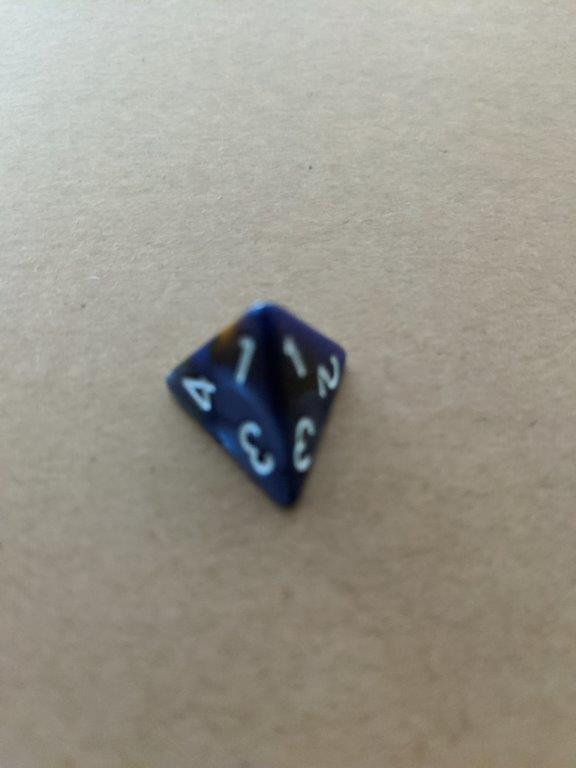d4-1: (160, 300, 353, 517)
